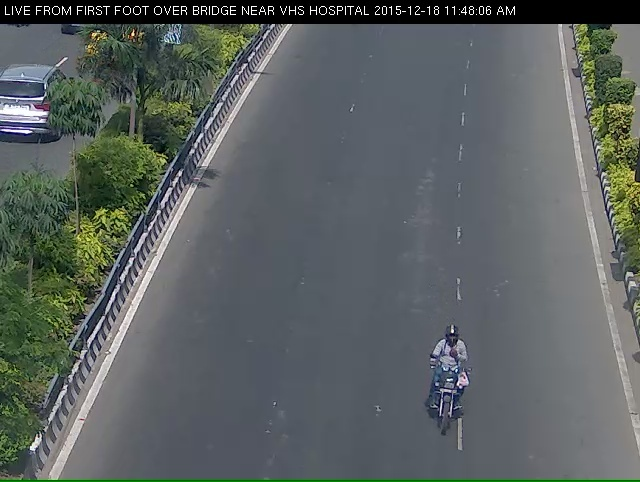Person: (421, 347, 478, 461)
